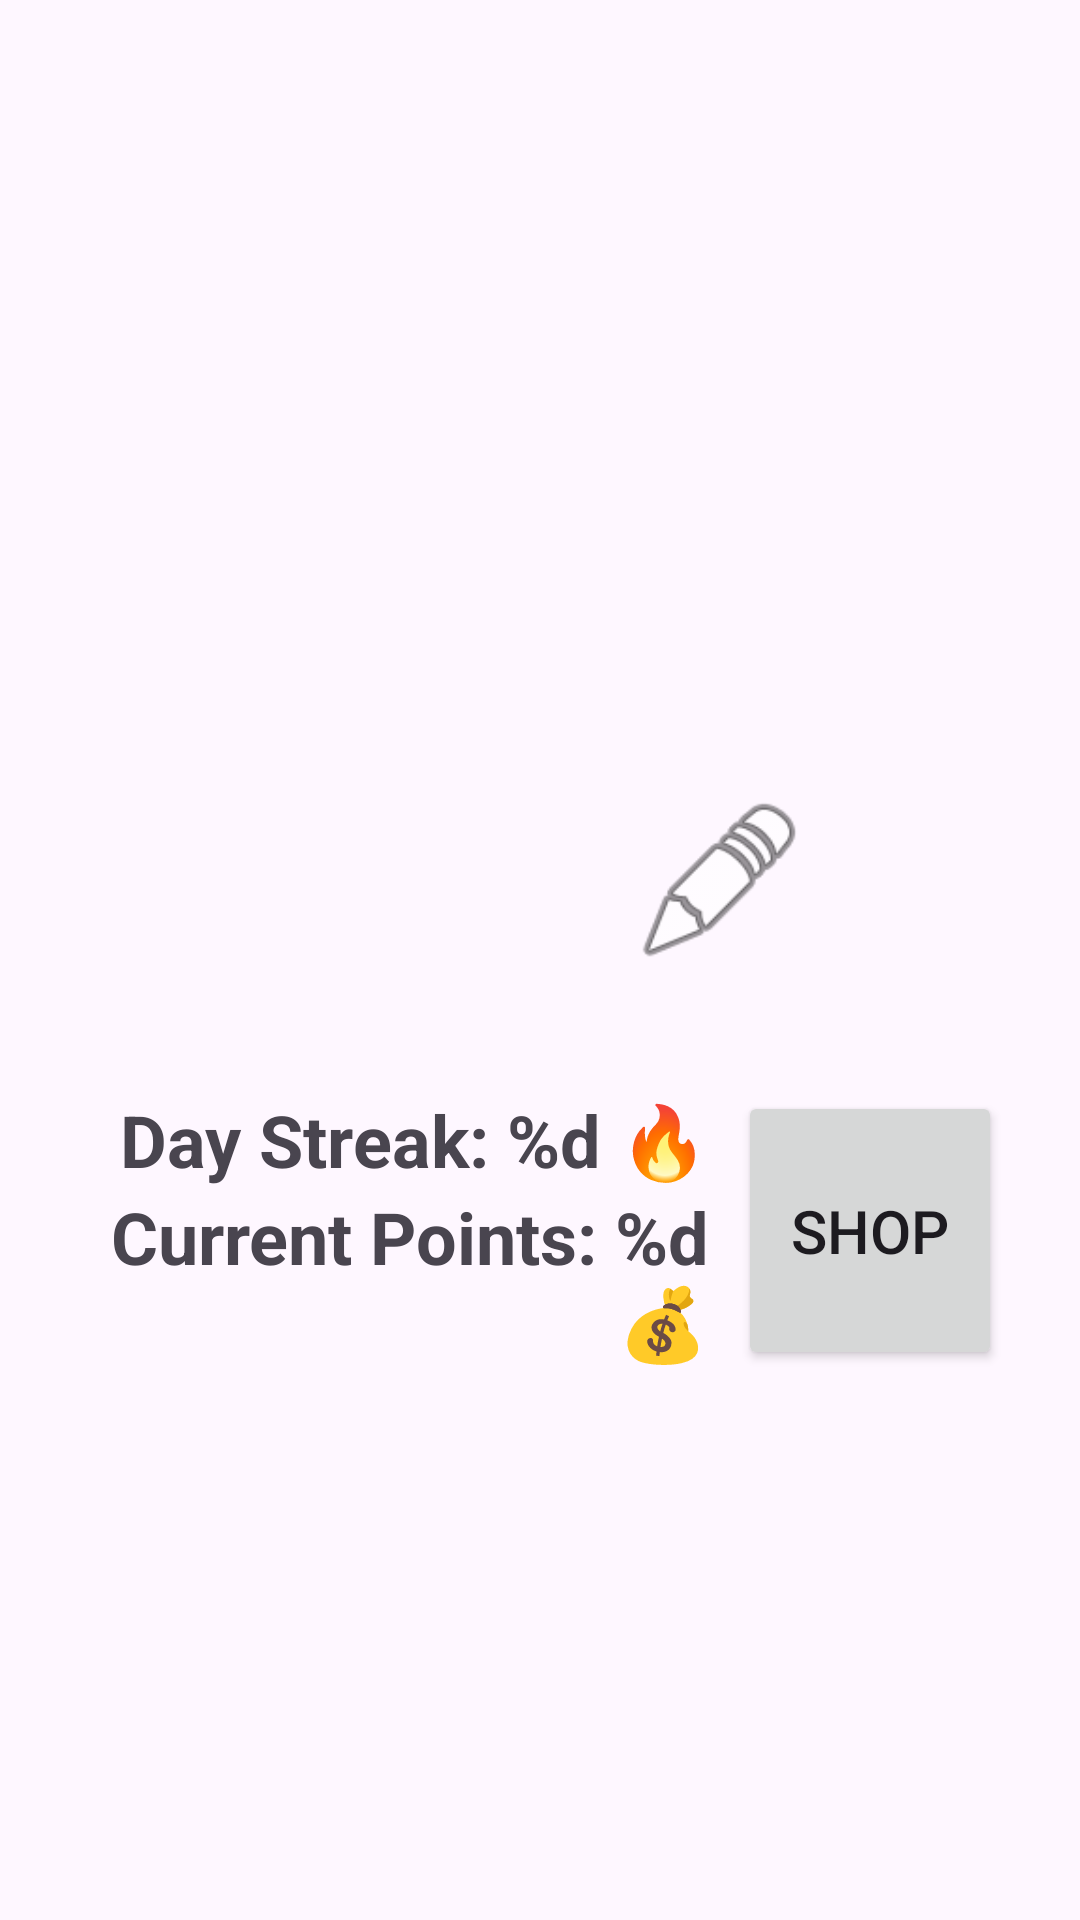

Point at icon controls on the screen. Image size 1080px×1920px, points as [x,y].
edit: [719,880]
